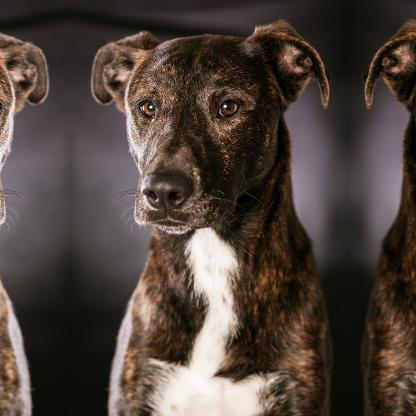Dog: (88, 19, 328, 415), (0, 19, 51, 416), (364, 19, 415, 416)
